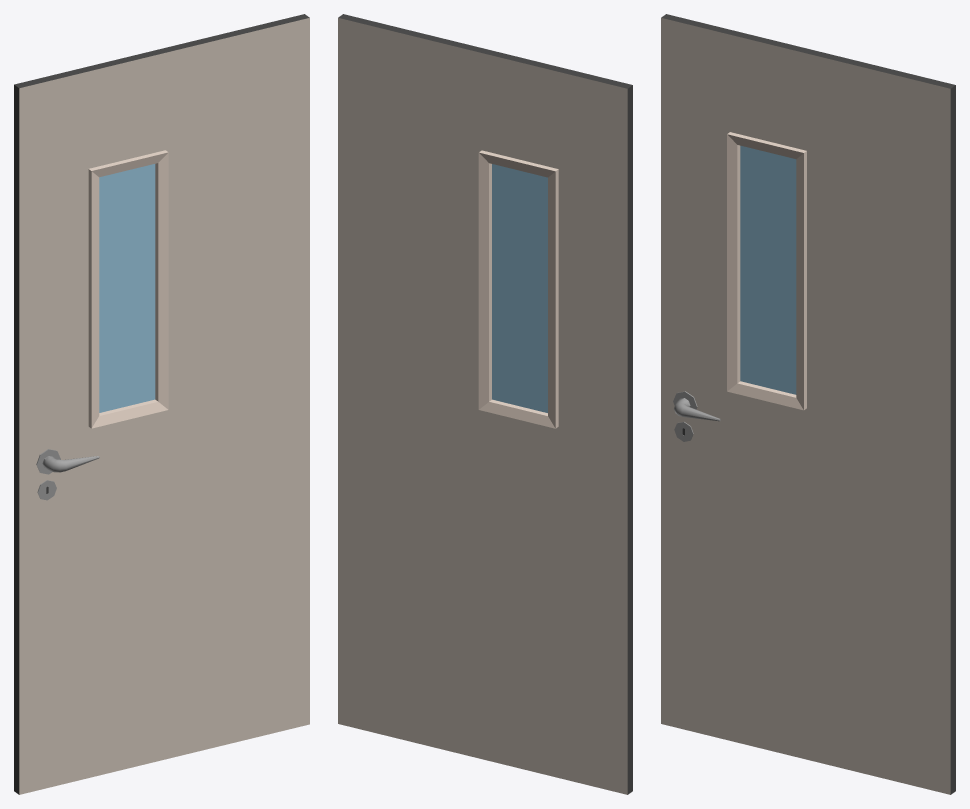
File: Porta.fbx
3 renders of one model, left to right at view 1: azimuth 30°, elevation 25°; view 2: azimuth 150°, elevation 25°; view 3: azimuth 330°, elevation 25°, orthographic.
Parts seen in each view (by area): view 1: Door; view 2: Door; view 3: Door.
Part boxes in pixels (x1,y1,x2,y2): Door: (14, 14, 309, 794); Door: (338, 14, 632, 794); Door: (661, 14, 955, 794).
Bounding box in the file's own units: 206 × 480 × 26.41.
